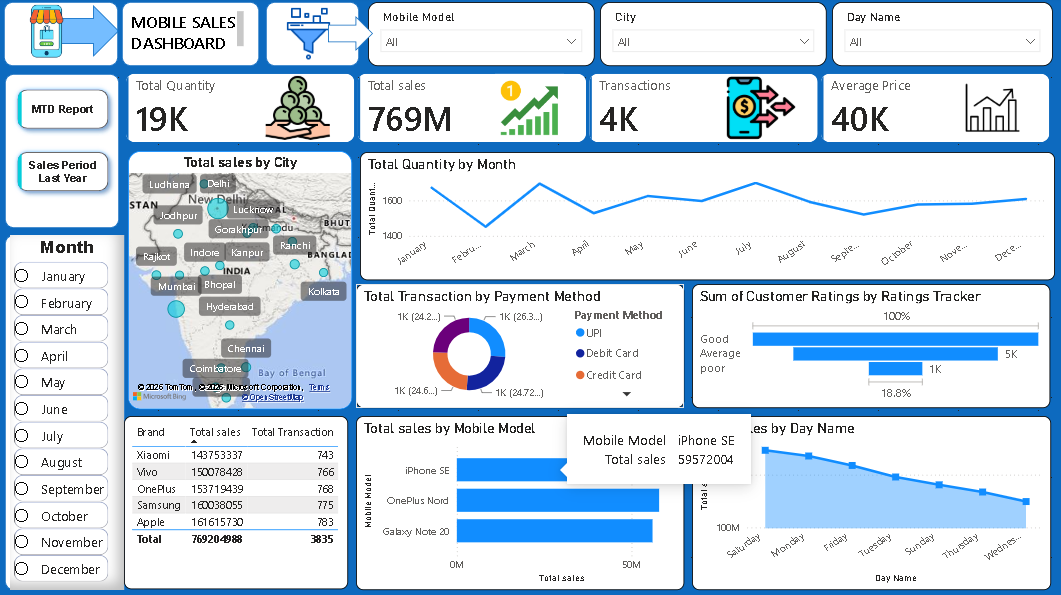

What the dashboard file says about the page in this screenshot:
{"tool":"powerbi","page":{"name":"Dashboard","canvas":[1280,720],"ordinal":0},"visuals":[{"type":"shape","box":[7.5,6,136.8,76.8],"z":0},{"type":"shape","box":[8.4,92.4,136.8,184.8],"z":1000},{"type":"shape","box":[8.4,285.6,136.8,426],"z":2000},{"type":"listSlicer","fields":{"Values":["Custom calendar.Date.Variation.Date Hierarchy.Month"]},"box":[14.4,285.6,136.8,426],"z":3000},{"type":"cardVisual","fields":{"Data":["Sheet1 (2).Total Quantity","Sheet1 (2).Total sales2","Sheet1 (2).Total Transaction","Sheet1 (2).Average Price"]},"box":[141.6,78,1135.2,108],"z":4000},{"type":"slicer","fields":{"Values":["Sheet1 (2).Mobile Model"]},"box":[444.1,6,271.6,76.8],"z":5000},{"type":"slicer","fields":{"Values":["Sheet1 (2).City"]},"box":[722,6,272.4,76.8],"z":6000},{"type":"slicer","fields":{"Values":["Sheet1 (2).Day Name"]},"box":[1000.4,6,265.2,76.8],"z":7000},{"type":"shape","box":[321.9,6,111.6,76.8],"z":8000},{"type":"image","box":[321.9,12,102,63.6],"z":9000},{"type":"shape","box":[396.3,22.8,54,42],"z":10000},{"type":"shape","box":[148.9,6,164.4,76.8],"z":11000},{"type":"textbox","box":[154.9,12,145.2,56.4],"z":12000},{"type":"map","fields":{"Category":["Sheet1 (2).City"],"Size":["Sheet1 (2).Total sales"]},"box":[156,185,268.8,309.6],"z":13000},{"type":"lineChart","fields":{"Y":["Sheet1 (2).Total Quantity"],"Category":["Custom calendar.Date.Variation.Date Hierarchy.Month"]},"box":[434.4,186,834,153.6],"z":14000},{"type":"funnel","fields":{"Category":["Sheet1 (2).Ratings Tracker"],"Y":["Sum(Sheet1 (2).Customer Ratings)"]},"box":[832.6,344.4,429.6,148.8],"z":15000},{"type":"donutChart","fields":{"Y":["Sheet1 (2).Total Transaction"],"Category":["Sheet1 (2).Payment Method"]},"box":[429.4,344.4,393.6,148.8],"z":16000},{"type":"barChart","fields":{"Category":["Sheet1 (2).Mobile Model"],"Y":["Sheet1 (2).Total sales"]},"box":[429.6,502.8,393.6,208.8],"z":17000},{"type":"areaChart","fields":{"Y":["Sheet1 (2).Total sales"],"Category":["Custom calendar.Day Name"]},"box":[832.8,502.8,430.8,208.8],"z":18000},{"type":"tableEx","fields":{"Values":["Sheet1 (2).Brand","Sheet1 (2).Total sales","Sheet1 (2).Total Transaction"]},"box":[151.2,502.8,268.8,207.6],"z":19000},{"type":"pageNavigator","box":[14.4,102,127.2,141.6],"z":20000},{"type":"shape","box":[57.9,9.6,87.6,62.4],"z":21000},{"type":"image","box":[-0.9,6,118.8,69.6],"z":22000}]}

Visuals, with their boxes in screenshot pixels (x1, y1, x2, y2), scaled from the page's 1280x720 canvas onto the 1061x595 screenshot:
shape: BBox(6, 5, 120, 68)
shape: BBox(7, 76, 120, 229)
shape: BBox(7, 236, 120, 588)
listSlicer - Custom calendar.Date.Variation.Date Hierarchy.Month: BBox(12, 236, 125, 588)
cardVisual - Sheet1 (2).Total Quantity x Sheet1 (2).Total sales2: BBox(117, 64, 1058, 154)
slicer - Sheet1 (2).Mobile Model: BBox(368, 5, 593, 68)
slicer - Sheet1 (2).City: BBox(598, 5, 824, 68)
slicer - Sheet1 (2).Day Name: BBox(829, 5, 1049, 68)
shape: BBox(267, 5, 359, 68)
image: BBox(267, 10, 351, 62)
shape: BBox(328, 19, 373, 54)
shape: BBox(123, 5, 260, 68)
textbox: BBox(128, 10, 249, 57)
map - Sheet1 (2).City x Sheet1 (2).Total sales: BBox(129, 153, 352, 409)
lineChart - Sheet1 (2).Total Quantity x Custom calendar.Date.Variation.Date Hierarchy.Month: BBox(360, 154, 1051, 281)
funnel - Sheet1 (2).Ratings Tracker x Sum(Sheet1 (2).Customer Ratings): BBox(690, 285, 1046, 408)
donutChart - Sheet1 (2).Total Transaction x Sheet1 (2).Payment Method: BBox(356, 285, 682, 408)
barChart - Sheet1 (2).Mobile Model x Sheet1 (2).Total sales: BBox(356, 416, 682, 588)
areaChart - Sheet1 (2).Total sales x Custom calendar.Day Name: BBox(690, 416, 1047, 588)
tableEx - Sheet1 (2).Brand x Sheet1 (2).Total sales: BBox(125, 416, 348, 587)
pageNavigator: BBox(12, 84, 117, 201)
shape: BBox(48, 8, 121, 60)
image: BBox(0, 5, 98, 62)
